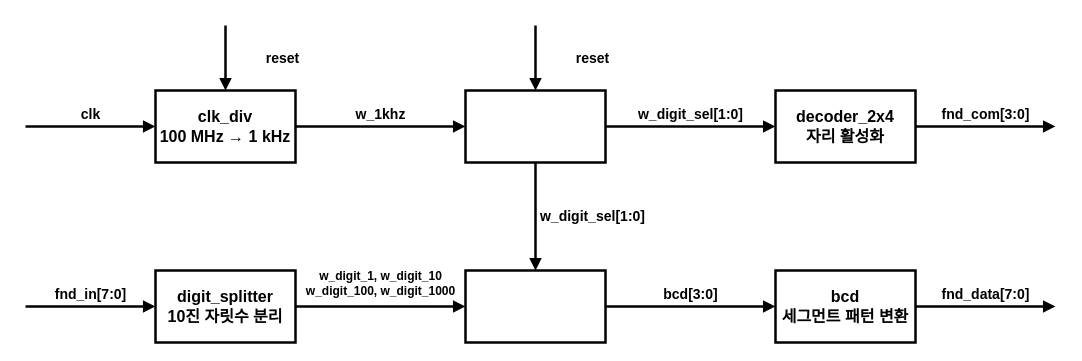
Some shapes in this 1082 by 361 pixel diagram are drawn without their labels. Each missing label, with the centre of its shape:
"counter_4 자리 인덱스 0–3" goes at pixel 535 126.
"mux_4x1 표시할 숫자 선택" goes at pixel 535 306.
